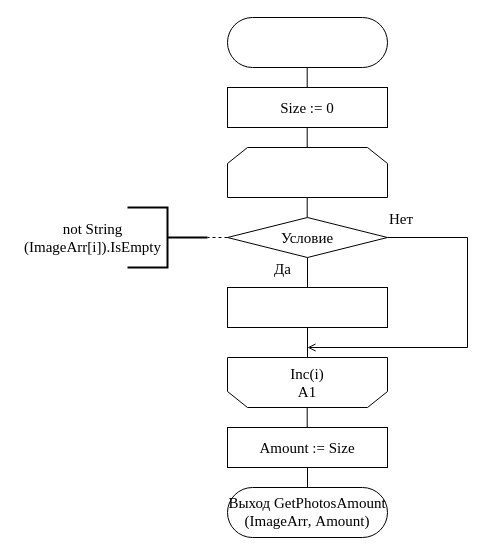
This 493x555 diagram has some shape labels left out. Each missing label, with the centre of its shape:
"Inc(Size)" belongs at point (307, 307).
"А1 i := 1 i <= 20" belongs at point (307, 172).
"Вход GetPhotosAmount ( ImageArr , Amount)" belongs at point (307, 42).
